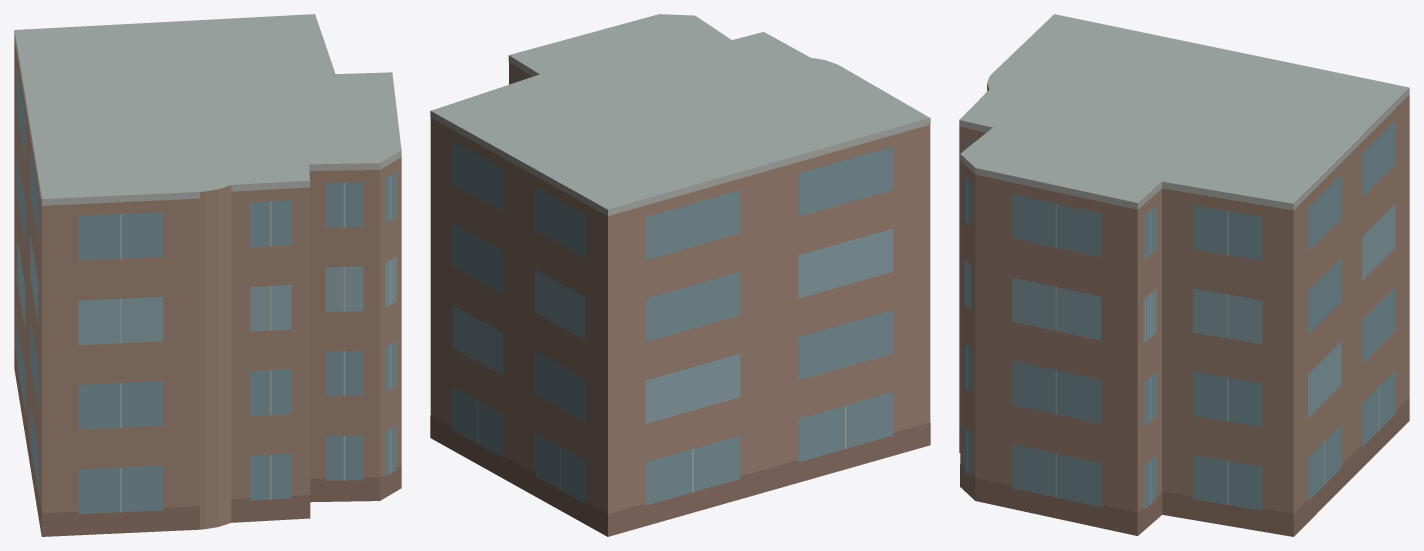
File: survey-upis-32665844.glb
3 renders of one model, left to right at view 1: azimuth 30°, elevation 25°; view 2: azimuth 150°, elevation 25°; view 3: azimuth 270°, elevation 25°, orthographic. The views are drawn at different scales.
Parts seen in each view (by area): view 1: survey-upis-32665844.tmp; view 2: survey-upis-32665844.tmp; view 3: survey-upis-32665844.tmp.
Part boxes in pixels (x1=…): survey-upis-32665844.tmp: x1=14, y1=14, x2=401, y2=536; survey-upis-32665844.tmp: x1=430, y1=14, x2=930, y2=536; survey-upis-32665844.tmp: x1=959, y1=14, x2=1409, y2=536.
Bounding box in the file's own units: 14.93 × 12.2 × 14.96.
